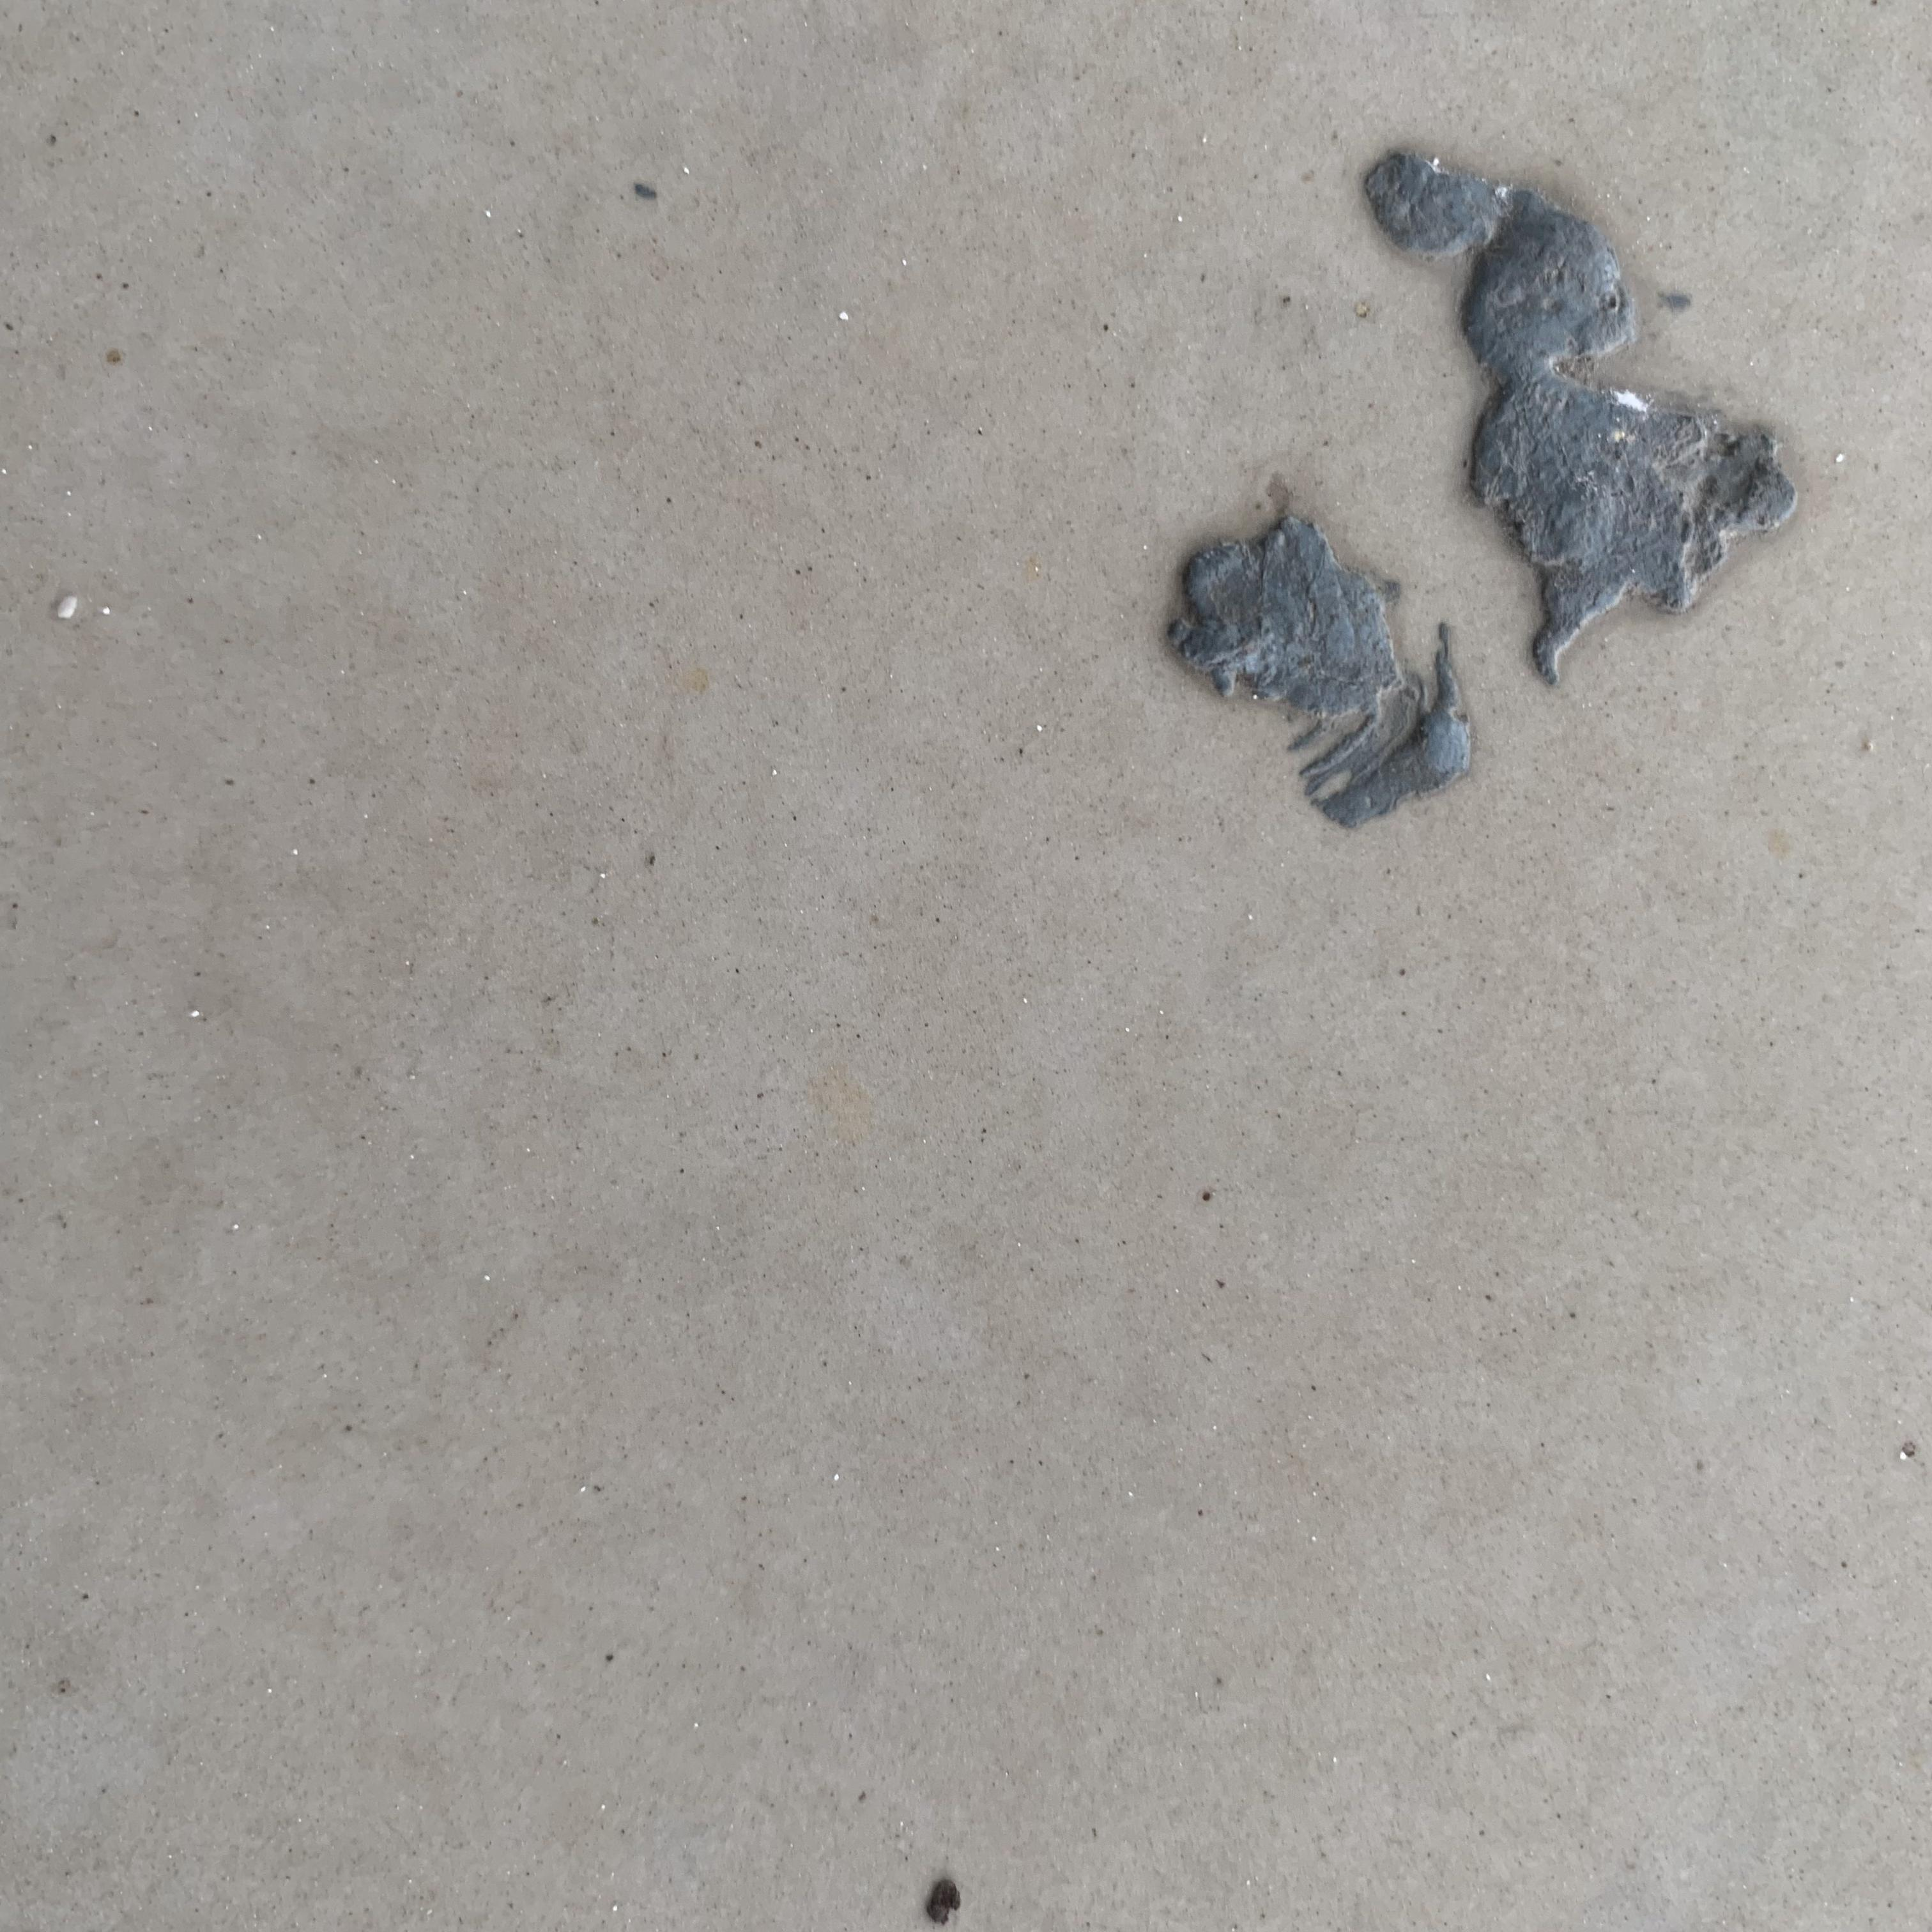grey spot: (1359, 145, 1799, 690), (1164, 510, 1477, 830), (922, 1868, 962, 1925)
